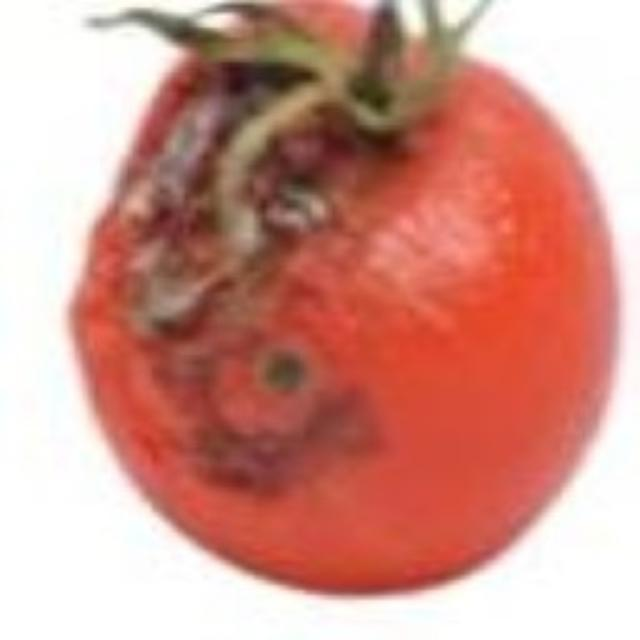defect: (45, 0, 625, 600)
